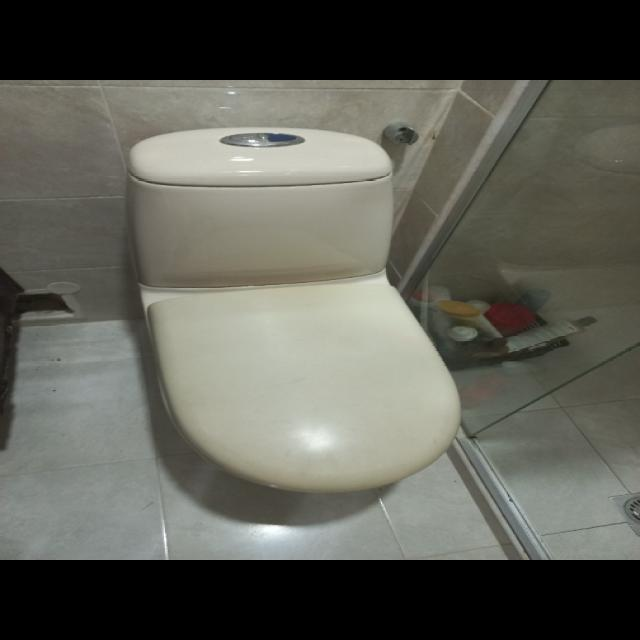toilet: (125, 126, 462, 493)
